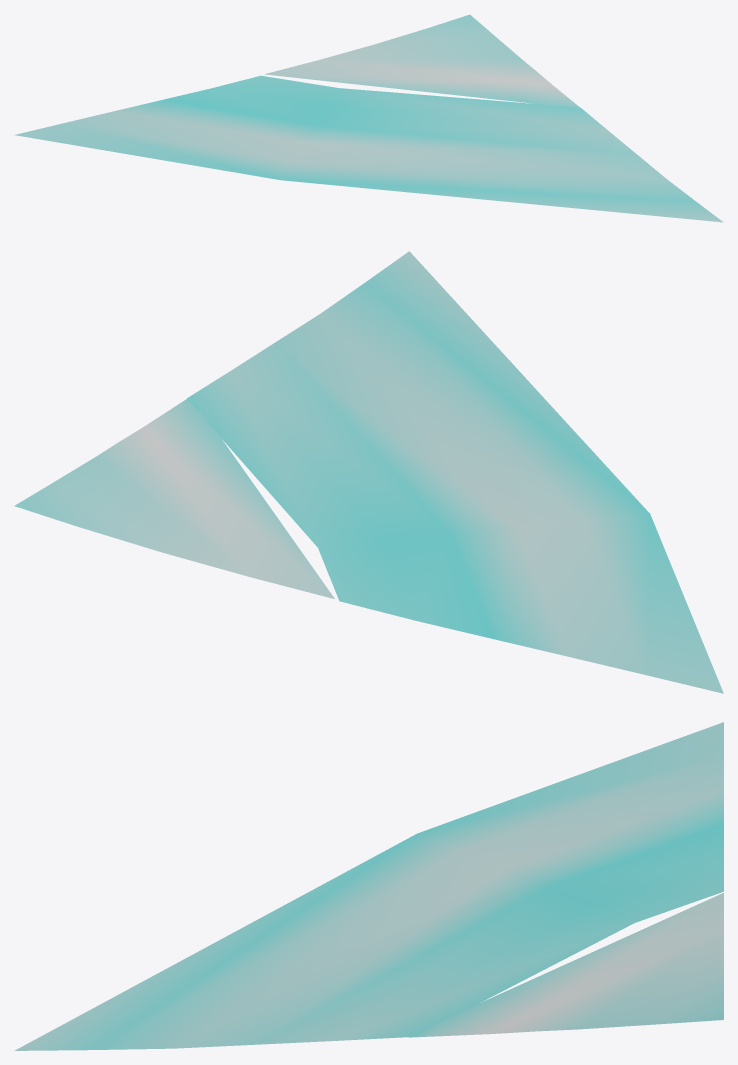
3 views of the same model, one above another, from view 1: azimuth 30°, elevation 25°; view 2: azimuth 150°, elevation 25°; view 3: azimuth 270°, elevation 25° (orthographic). The views are drawn at different scales.
Visible parts, largest first — view 1: SpaceCenter_Long3_GenerateRoad_Sand_TireTracks_Width_Mesh_x1; view 2: SpaceCenter_Long3_GenerateRoad_Sand_TireTracks_Width_Mesh_x1; view 3: SpaceCenter_Long3_GenerateRoad_Sand_TireTracks_Width_Mesh_x1.
Boxes of the visible parts, left/top/right/bottom form: SpaceCenter_Long3_GenerateRoad_Sand_TireTracks_Width_Mesh_x1: left=14, top=14, right=723, bottom=222; SpaceCenter_Long3_GenerateRoad_Sand_TireTracks_Width_Mesh_x1: left=14, top=251, right=723, bottom=693; SpaceCenter_Long3_GenerateRoad_Sand_TireTracks_Width_Mesh_x1: left=14, top=722, right=723, bottom=1050.
Bounding box in the file's own units: 83.14 × 86.19 × 4.
